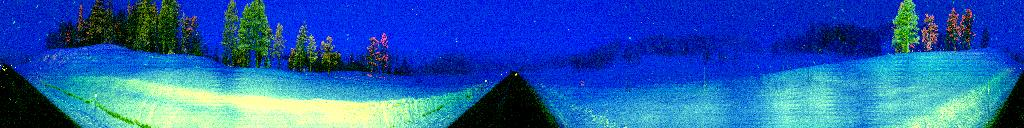pole: (985, 73, 992, 128), (93, 88, 100, 128)
